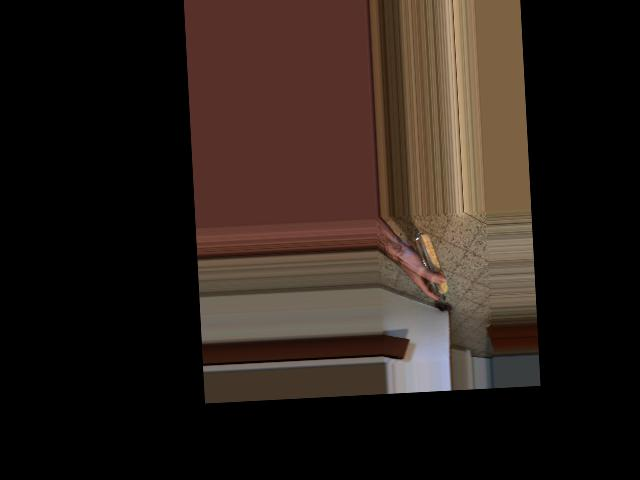cheese: (397, 238, 457, 306)
